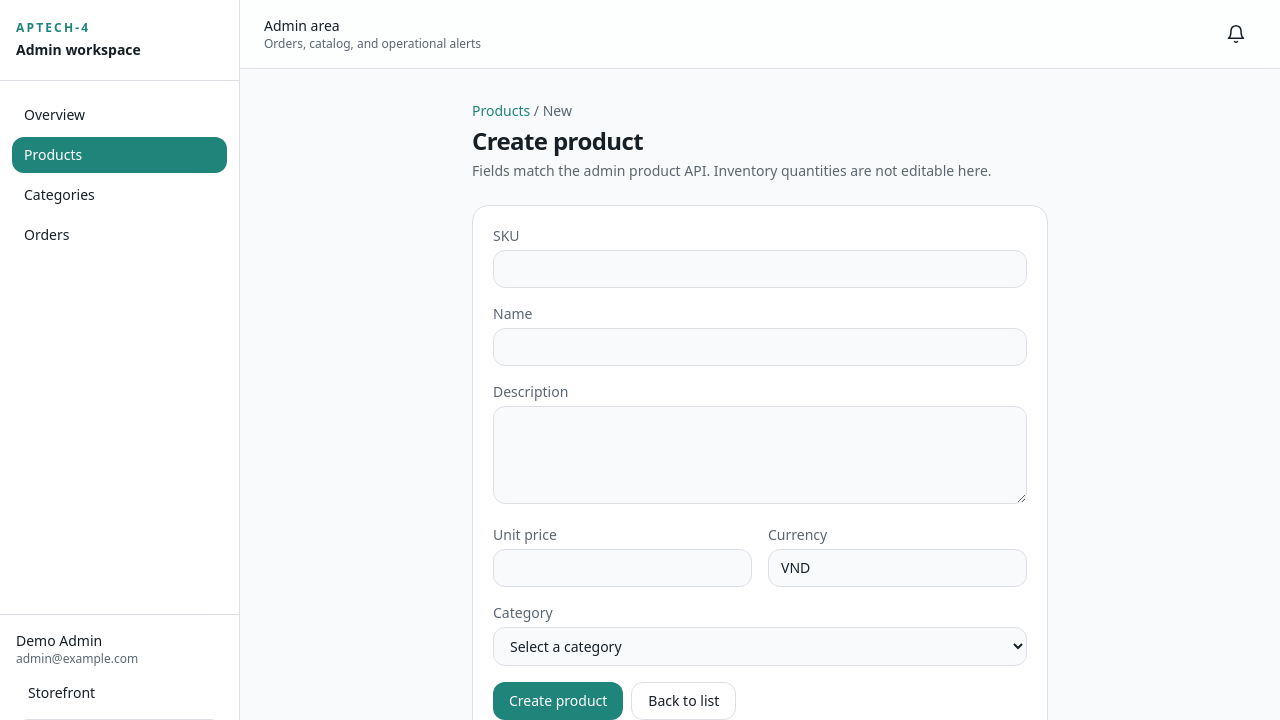
Test: Admin product pages › shows duplicate SKU conflict from the API
Step 1. Type "DEMO-PHONE" into the field labelled "SKU" → (760, 269), box [493,250,1027,288]
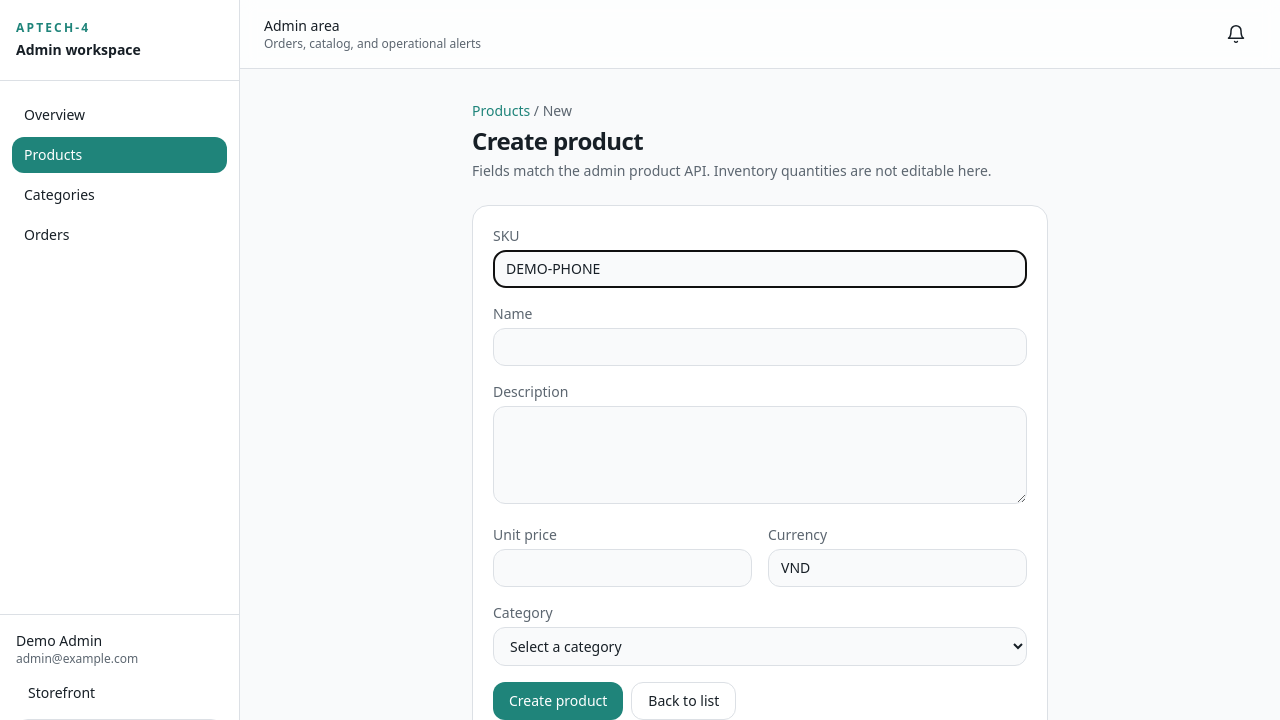
Step 2. Type "Demo Phone" into the field labelled "Name" → (760, 347), box [493,328,1027,366]
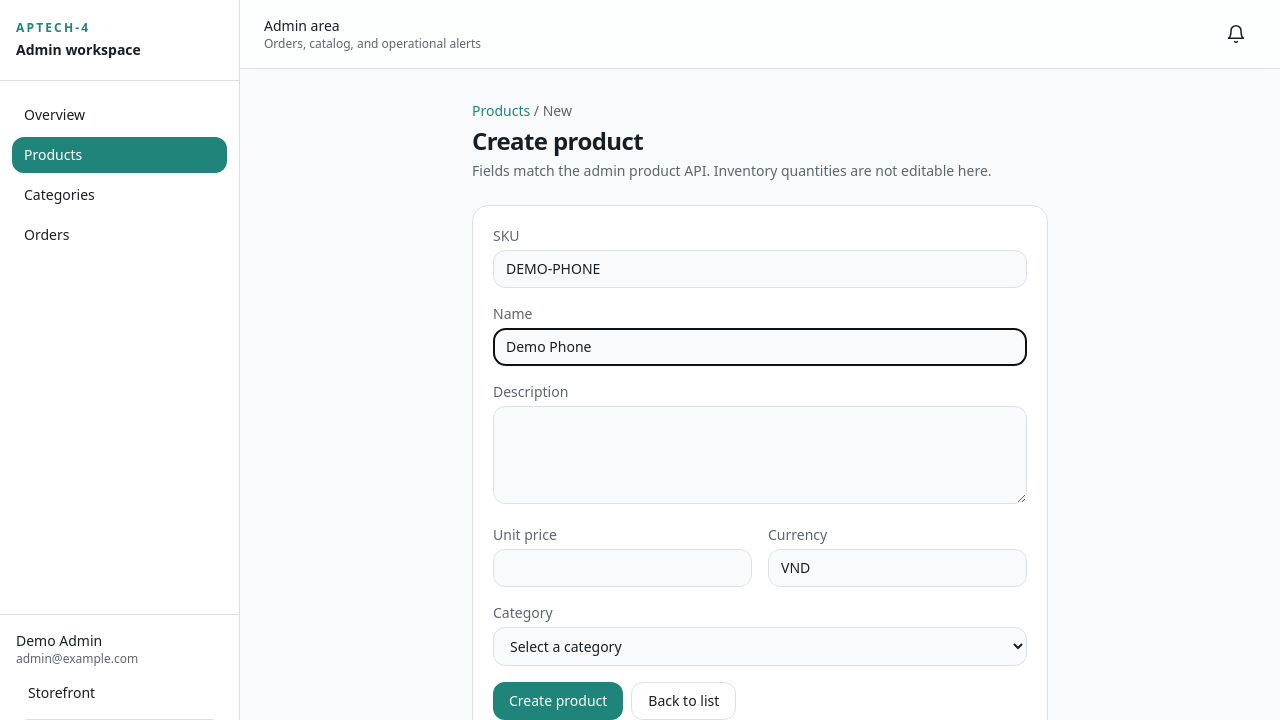
Step 3. Type "1000000" into the field labelled "Unit price" → (622, 568), box [493,549,752,587]
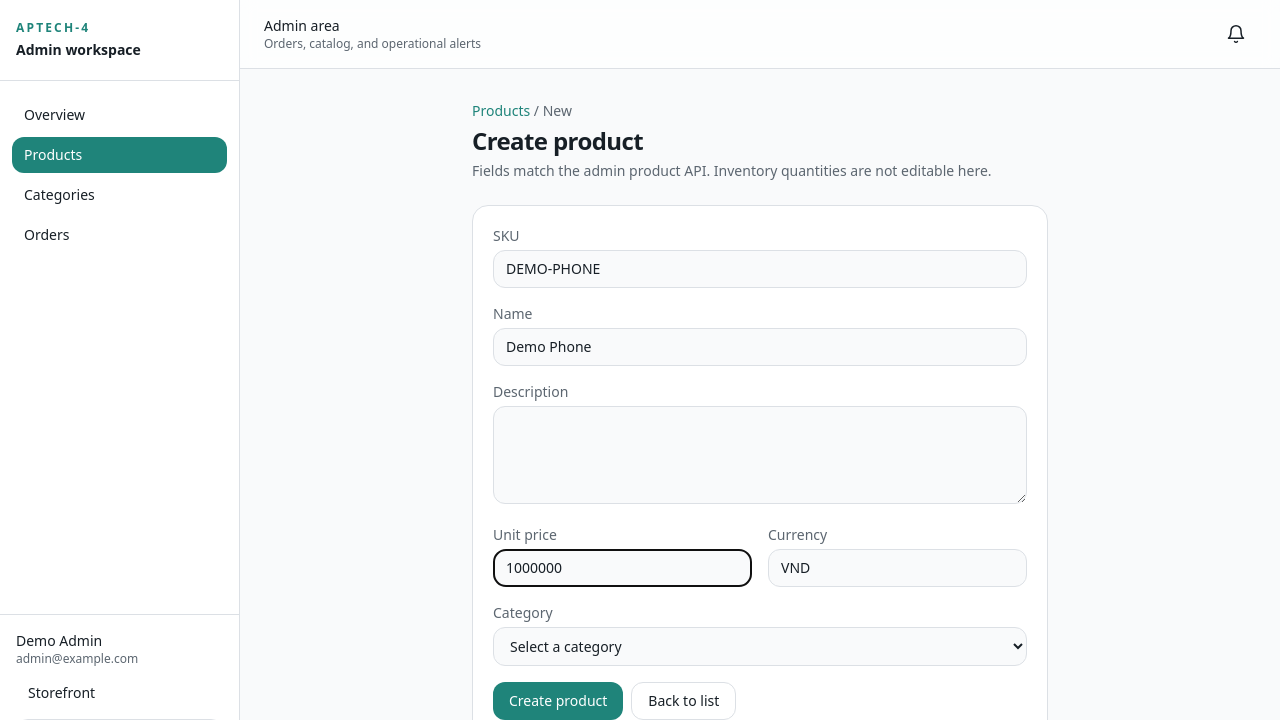
Step 4. Select "Electronics" in the dropdown labelled "Category" → (760, 646), box [493,627,1027,666]
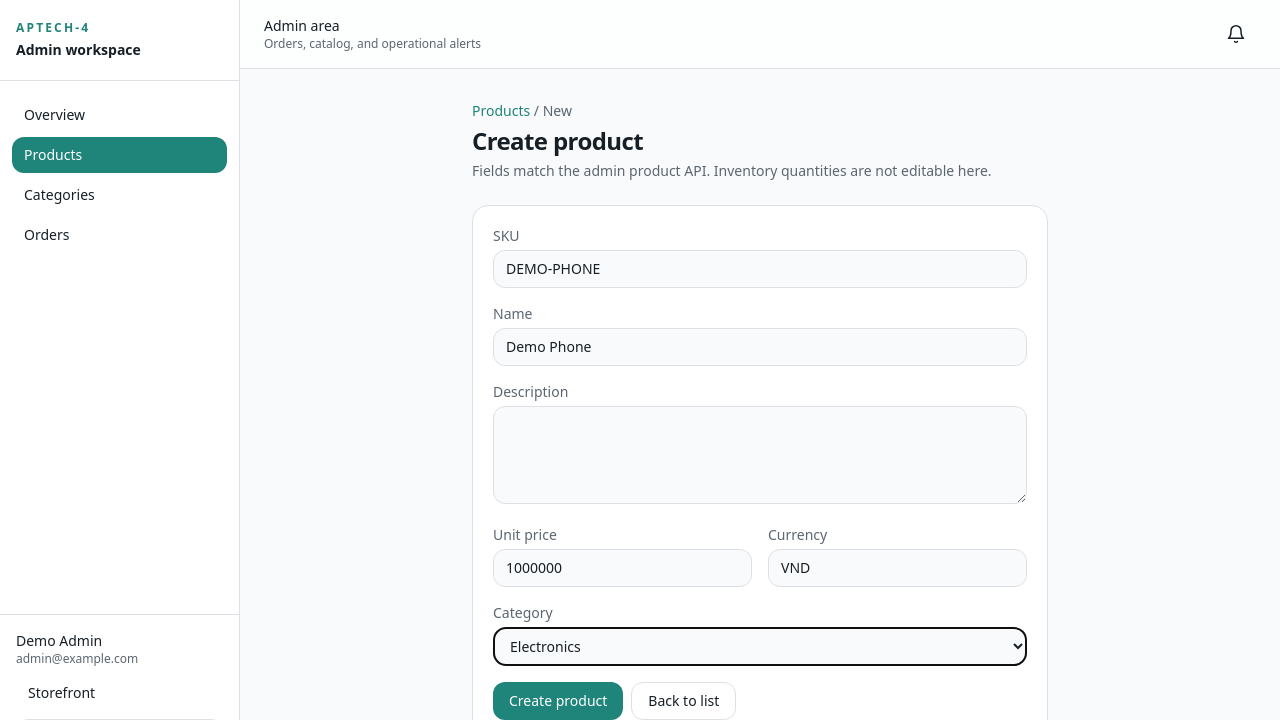
Step 5. Click the button "Create product" → (558, 701), box [493,682,623,719]
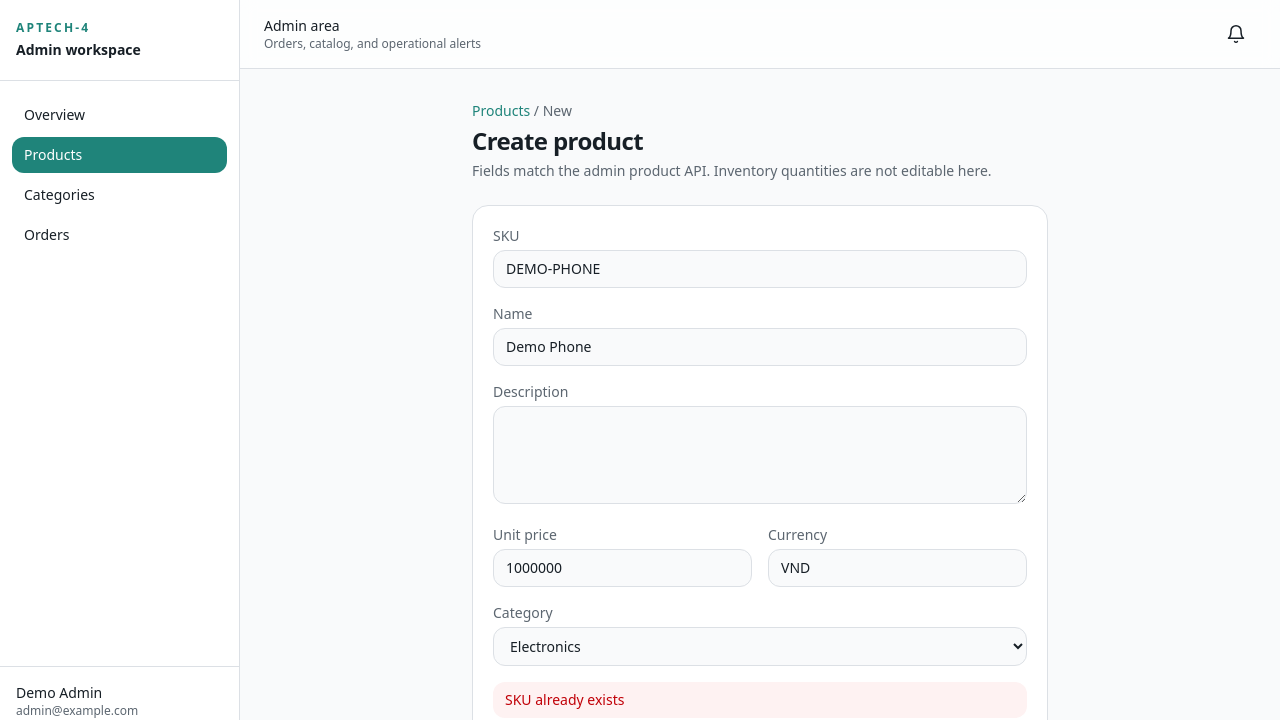
Expected: the message reads "SKU already exists", [505,690,624,709]
